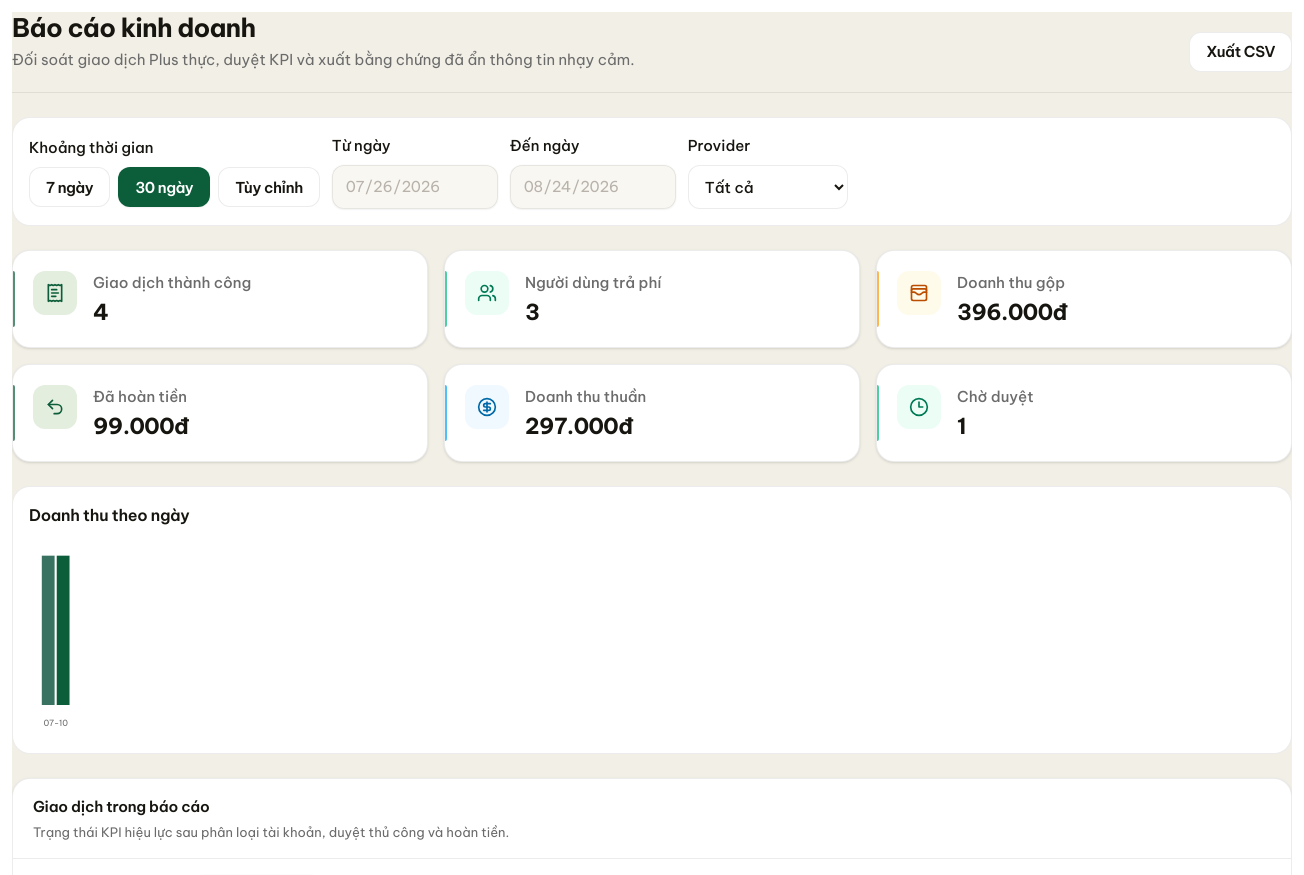
Test: AdminSalesReportPage › shows a retryable export error without creating a blob URL
Expected: the text "Giao dịch thành công" is shown, [93,271,251,294]
Click the button "Xuất CSV" at point(1241, 52), box [1189,32,1292,72]
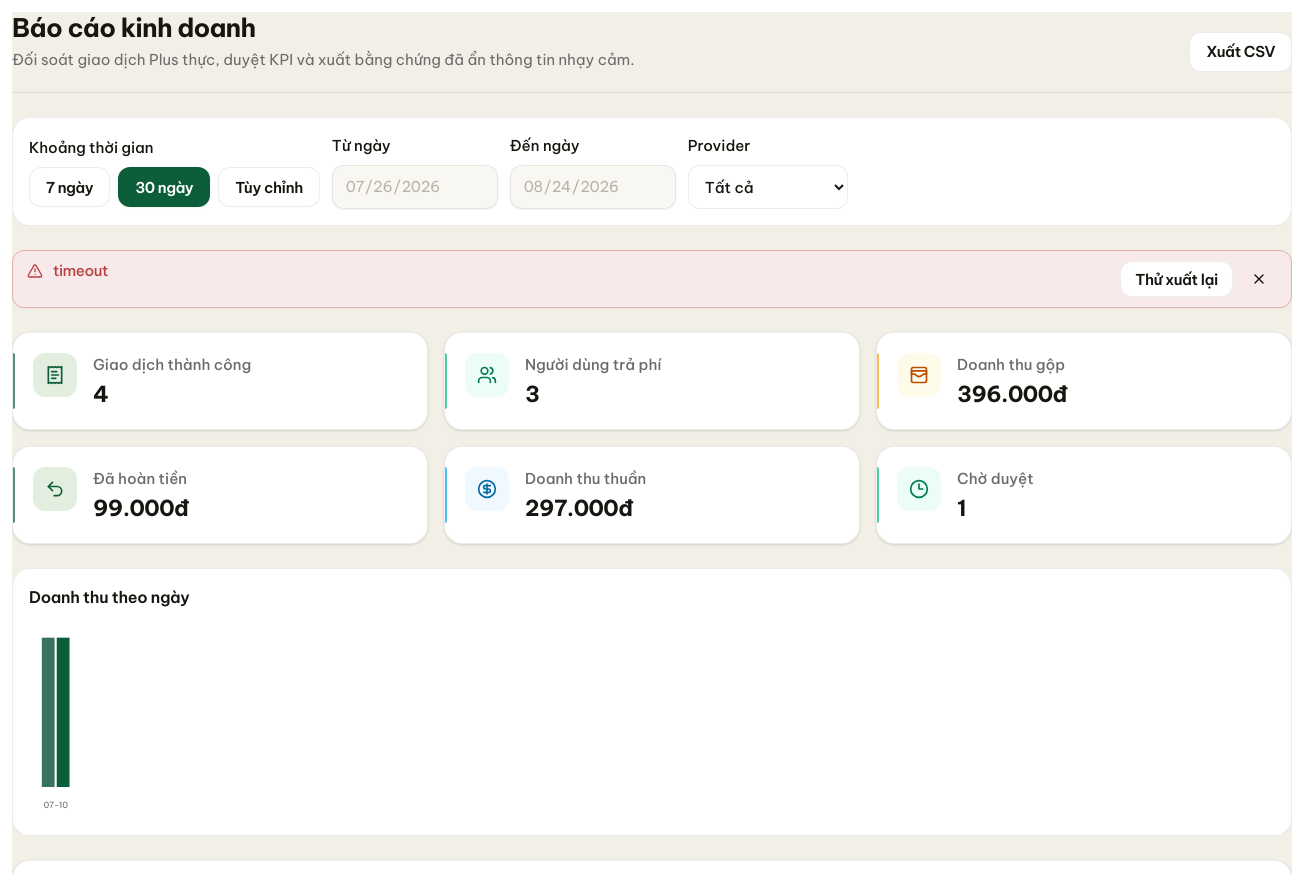
Expected: the text "timeout" is shown, [53,261,108,280]
